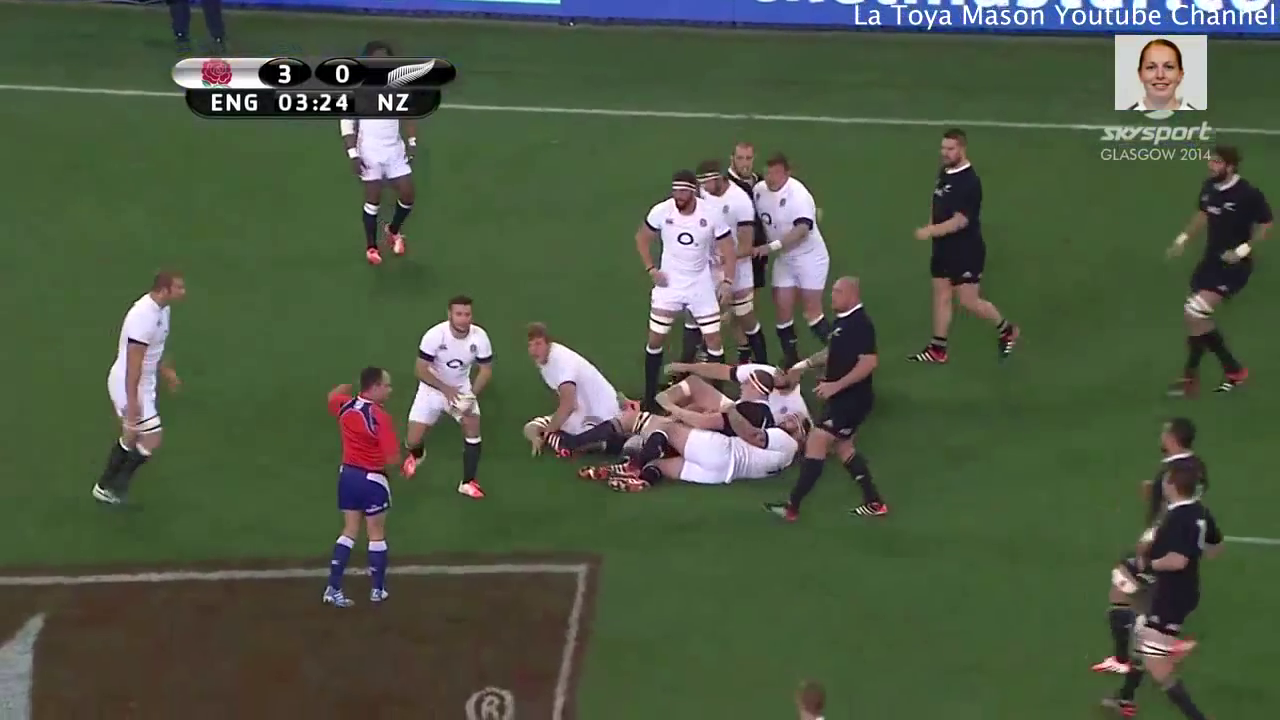player: (741, 262, 902, 537), (1081, 391, 1209, 694), (1102, 460, 1233, 720), (1153, 132, 1280, 398), (902, 126, 1029, 381), (81, 261, 198, 516), (623, 174, 733, 420), (386, 287, 505, 505), (309, 357, 407, 612), (329, 26, 426, 278), (500, 312, 633, 486), (745, 149, 844, 369), (684, 149, 769, 377), (587, 408, 813, 490), (707, 135, 786, 332), (647, 361, 782, 444), (752, 342, 813, 431), (773, 668, 845, 720)
